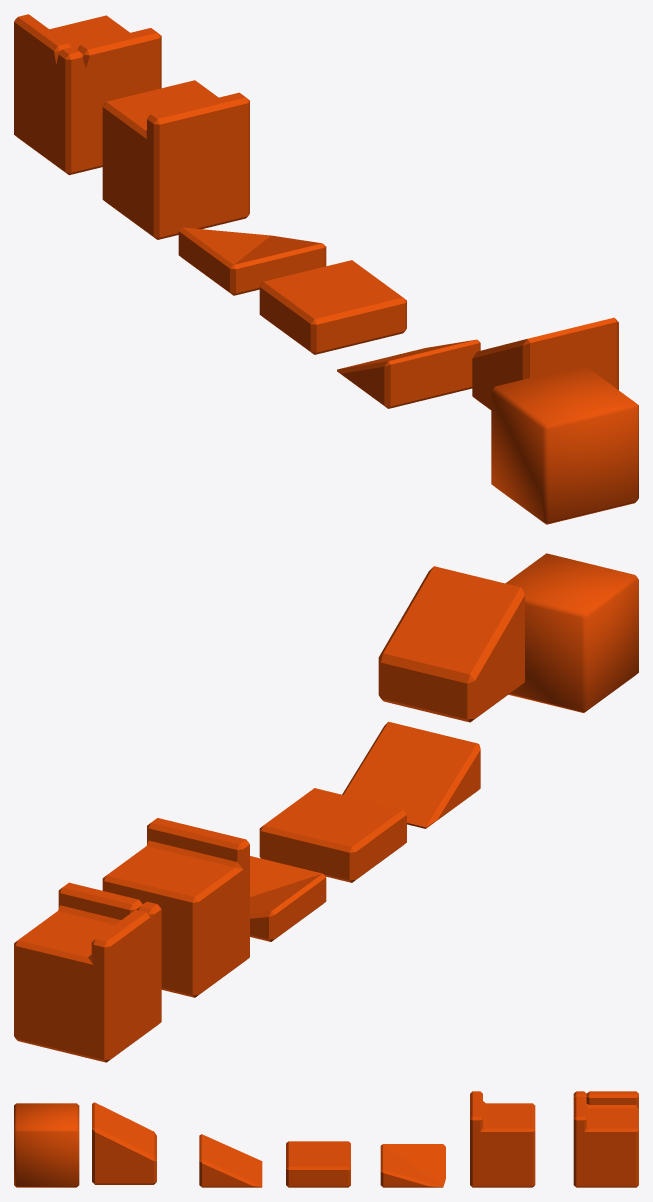
The model's file is World-blocks.glb.
3 views of the same model, one above another, from view 1: azimuth 30°, elevation 25°; view 2: azimuth 150°, elevation 25°; view 3: azimuth 270°, elevation 25° (orthographic). The views are drawn at different scales.
Visible parts, largest first — view 1: BlockWall, Block, BlockWallCorner, BlockShort, RamTop, RamLowerCorner, RamBottom; view 2: BlockWallCorner, RamTop, BlockWall, Block, BlockShort, RamBottom, RamLowerCorner; view 3: BlockWallCorner, BlockWall, Block, RamTop, BlockShort, RamLowerCorner, RamBottom.
Part boxes in pixels (bbox=[...]): BlockWall: bbox=[102, 80, 249, 239]; Block: bbox=[491, 365, 638, 524]; BlockWallCorner: bbox=[14, 14, 161, 175]; BlockShort: bbox=[259, 260, 406, 354]; RamTop: bbox=[472, 317, 618, 409]; RamLowerCorner: bbox=[178, 227, 326, 295]; RamBottom: bbox=[337, 339, 480, 408]; BlockWallCorner: bbox=[14, 882, 161, 1062]; RamTop: bbox=[378, 566, 524, 722]; BlockWall: bbox=[102, 818, 249, 997]; Block: bbox=[505, 553, 638, 712]; BlockShort: bbox=[259, 788, 406, 882]; RamBottom: bbox=[342, 721, 480, 828]; RamLowerCorner: bbox=[250, 856, 326, 941]; BlockWallCorner: bbox=[573, 1091, 638, 1187]; BlockWall: bbox=[470, 1091, 535, 1187]; Block: bbox=[14, 1103, 79, 1187]; RamTop: bbox=[92, 1102, 156, 1184]; BlockShort: bbox=[286, 1141, 350, 1187]; RamLowerCorner: bbox=[380, 1144, 445, 1187]; RamBottom: bbox=[199, 1134, 262, 1187].
Size of what is drawn, in the model's own units: 2.97 by 2.49 by 19.17.
